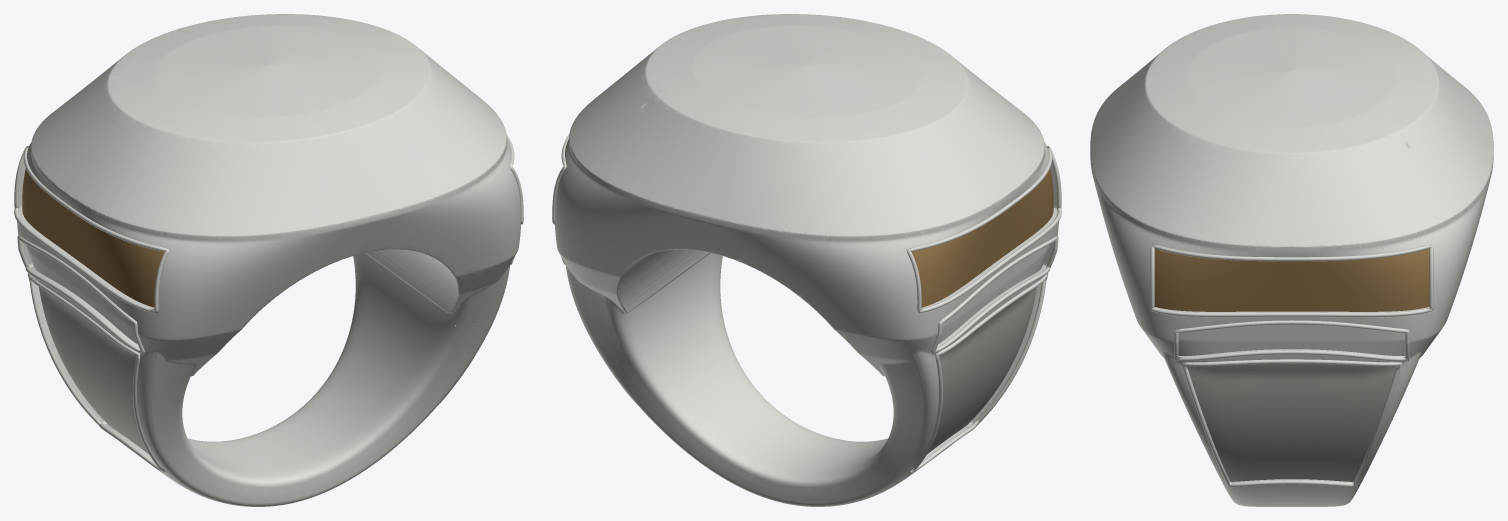
File: championship-ring.glb
3 views of the same model, side by side, from view 1: azimuth 30°, elevation 25°; view 2: azimuth 150°, elevation 25°; view 3: azimuth 270°, elevation 25° (orthographic).
Visible parts, largest first — view 1: Ring_lid, Ring_body, Player_crest, Player_name, Player_name_rim, Player_crest_rim, Player_caption, Player_caption_rim; view 2: Ring_lid, Ring_body, Player_crest, Player_name, Player_name_rim, Player_crest_rim, Player_caption, Player_caption_rim; view 3: Ring_lid, Ring_body, Team_crest, Team_name, Team_caption, Team_name_rim, Team_crest_rim, Team_caption_rim.
Boxes of the visible parts, x1,y1,x2,y2 form: Ring_lid: [31, 14, 506, 236]; Ring_body: [17, 132, 520, 506]; Player_crest: [39, 287, 148, 453]; Player_name: [22, 168, 164, 307]; Player_name_rim: [14, 146, 169, 313]; Player_crest_rim: [27, 273, 165, 472]; Player_caption: [26, 245, 137, 343]; Player_caption_rim: [17, 235, 145, 354]; Ring_lid: [569, 14, 1044, 236]; Ring_body: [555, 132, 1058, 506]; Player_crest: [927, 287, 1036, 453]; Player_name: [911, 168, 1053, 307]; Player_name_rim: [906, 146, 1061, 313]; Player_crest_rim: [910, 273, 1048, 472]; Player_caption: [938, 245, 1049, 343]; Player_caption_rim: [930, 235, 1058, 354]; Ring_lid: [1090, 14, 1493, 246]; Ring_body: [1090, 137, 1493, 506]; Team_crest: [1186, 363, 1397, 481]; Team_name: [1154, 248, 1429, 311]; Team_caption: [1178, 324, 1405, 355]; Team_name_rim: [1150, 244, 1433, 316]; Team_crest_rim: [1182, 359, 1401, 486]; Team_caption_rim: [1174, 320, 1409, 361].
Bounding box in the file's own units: 2.58 × 2.52 × 2.2.
